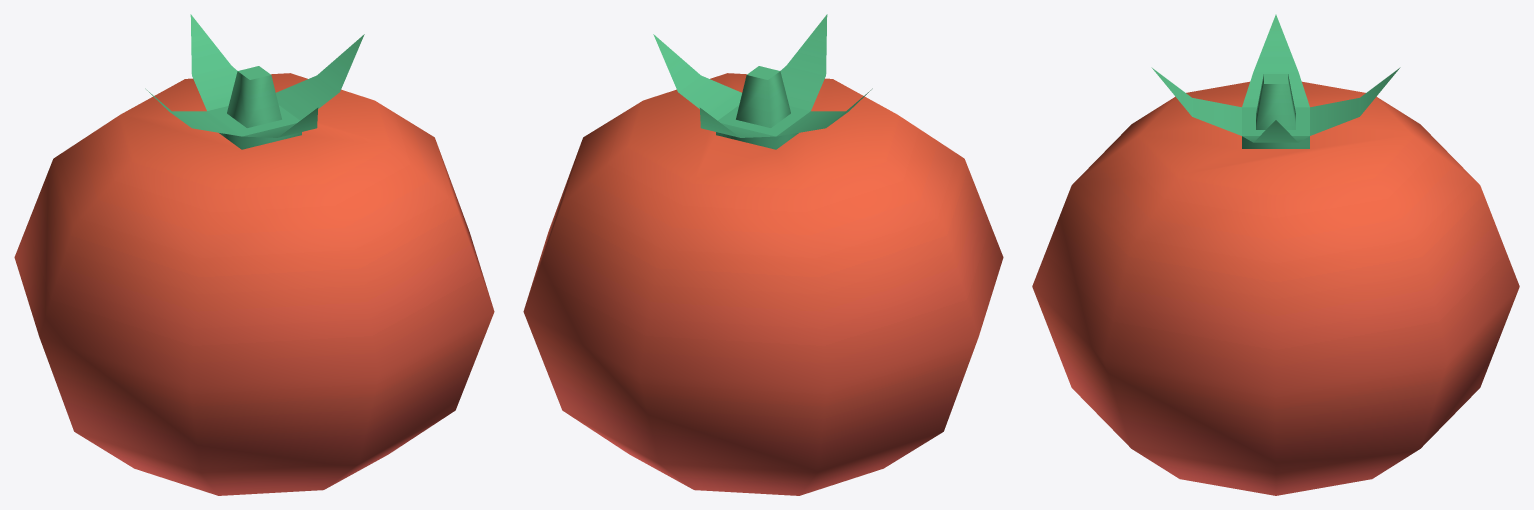
File: tomato.glb
3 views of the same model, side by side, from view 1: azimuth 30°, elevation 25°; view 2: azimuth 150°, elevation 25°; view 3: azimuth 270°, elevation 25° (orthographic).
Parts seen in each view (by area): view 1: tomato; view 2: tomato; view 3: tomato.
Boxes of the visible parts, x1,y1,x2,y2 form: tomato: [14, 14, 494, 495]; tomato: [523, 14, 1003, 495]; tomato: [1032, 14, 1519, 495].
Bounding box in the file's own units: 0.1697 × 0.1427 × 0.1697.
1 material, 1 textured.
